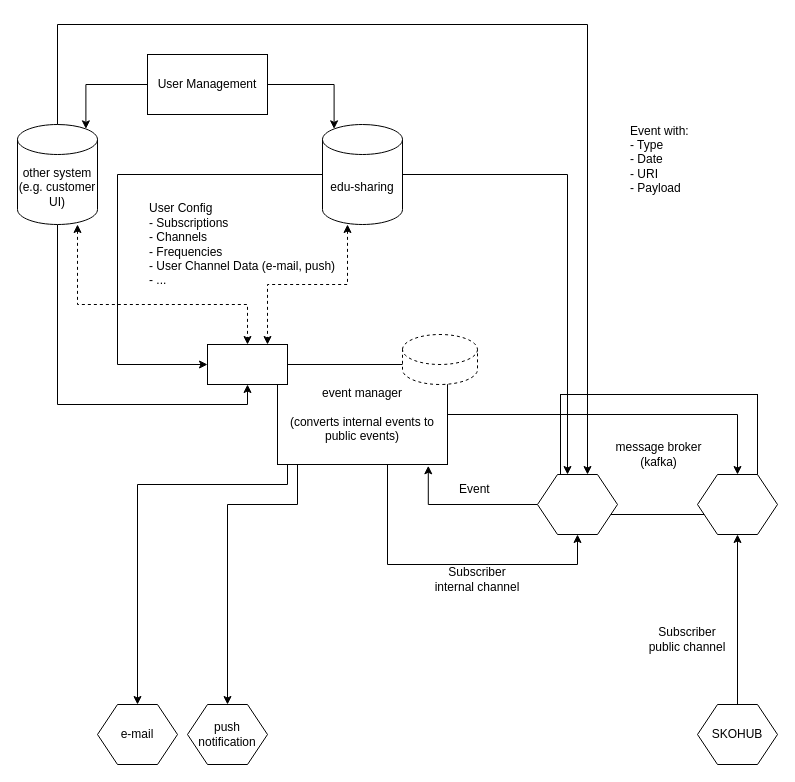
Image size: 795x782. Some labels were removed from this diagram. The shapes that lost their labels are listed below. From the top down, each one's centre as x and y in pixels, then its label:
point (247, 364): API
point (440, 359): database
point (577, 504): internal channel
point (737, 504): public channel
